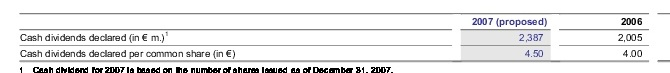table: (0, 0, 670, 73)
